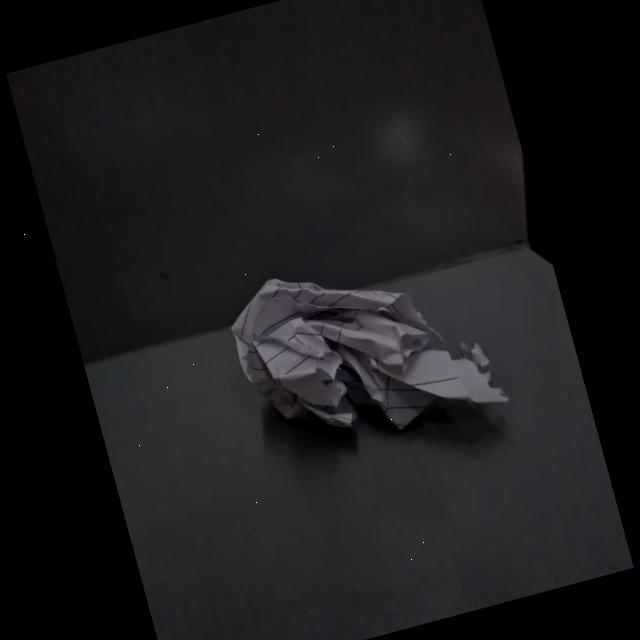trash: (225, 224, 512, 466)
